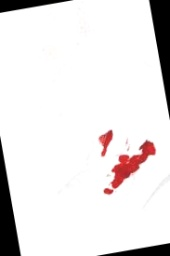blood: (92, 121, 164, 198)
